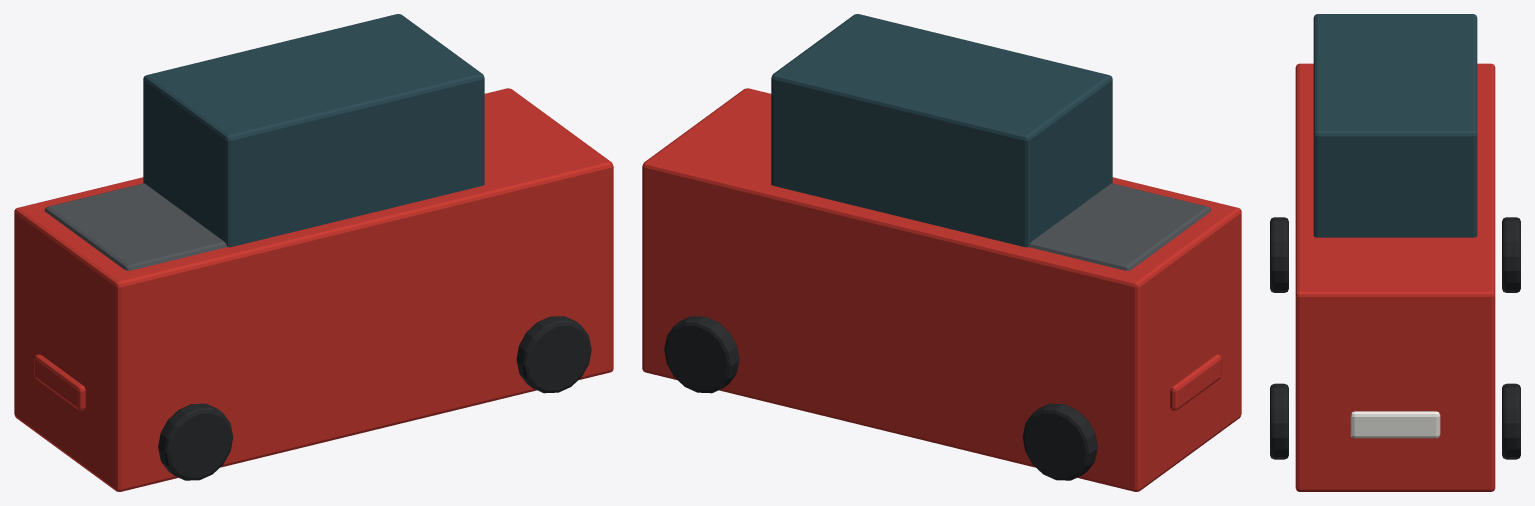
Rendered from Vehicle_017.glb.
The picture shows the model from 3 angles, left to right: view 1: azimuth 30°, elevation 25°; view 2: azimuth 150°, elevation 25°; view 3: azimuth 270°, elevation 25°; orthographic projection. The views are drawn at different scales.
Parts seen in each view (by area): view 1: Vehicle_017; view 2: Vehicle_017; view 3: Vehicle_017.
Boxes of the visible parts, bbox=[...] form: Vehicle_017: bbox=[14, 14, 613, 491]; Vehicle_017: bbox=[642, 14, 1241, 491]; Vehicle_017: bbox=[1270, 14, 1520, 491].
Bounding box in the file's own units: 5.38 × 3.2 × 2.38.
